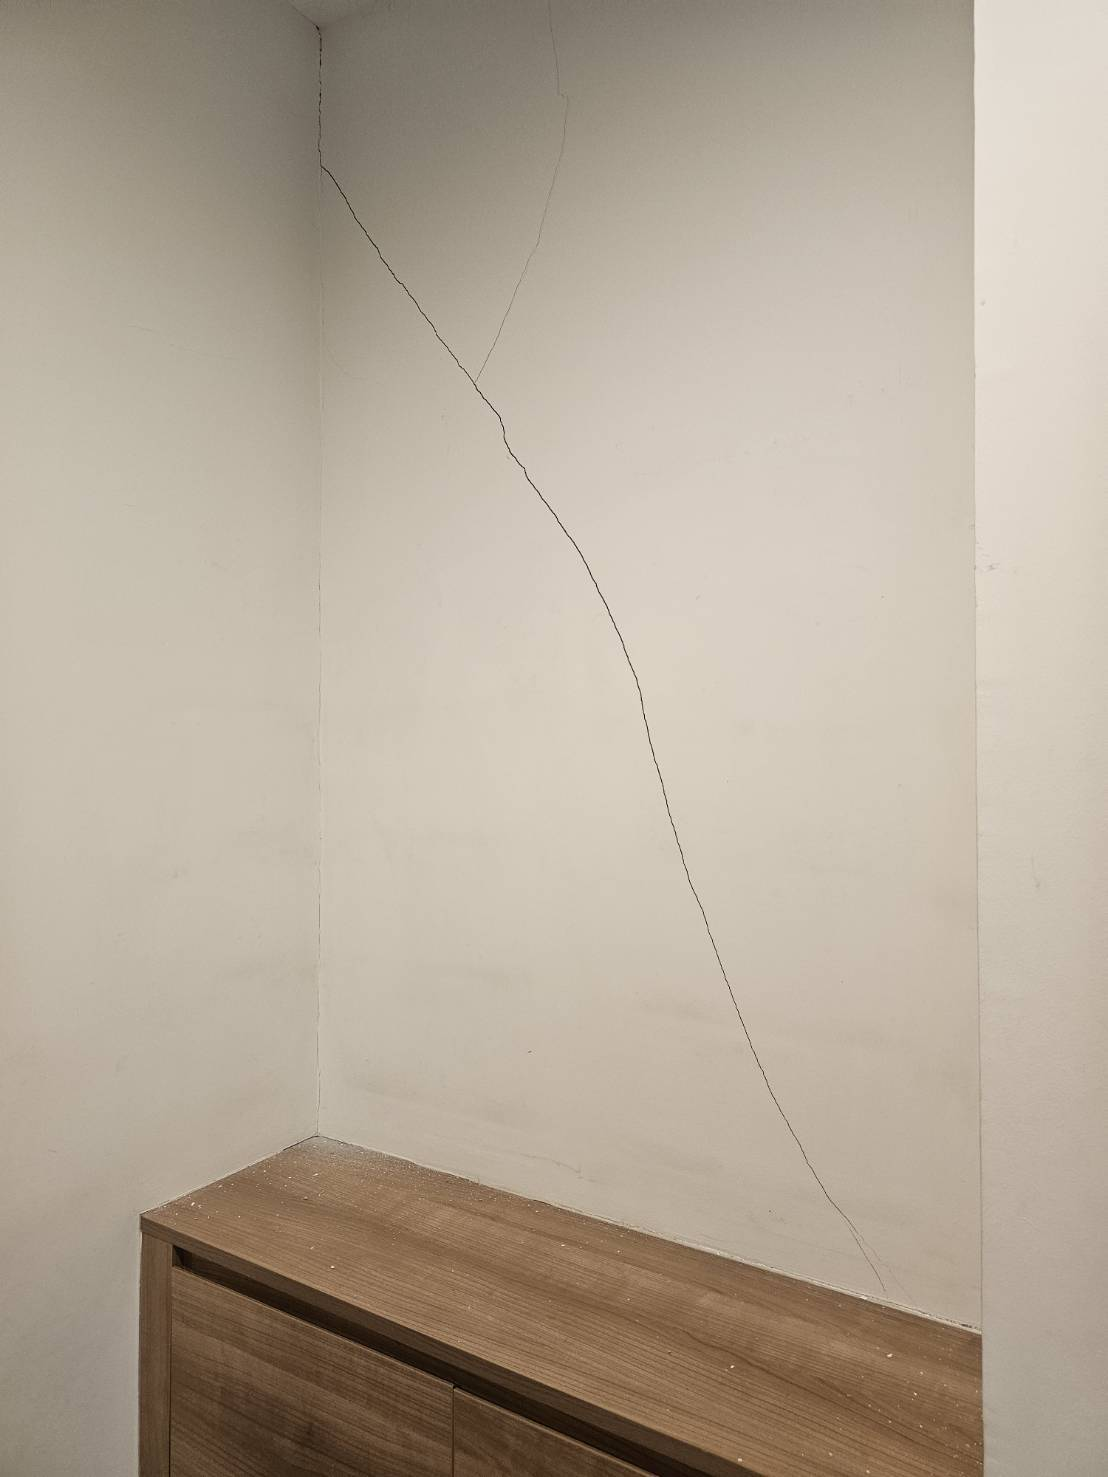Low: (276, 10, 909, 1301)
